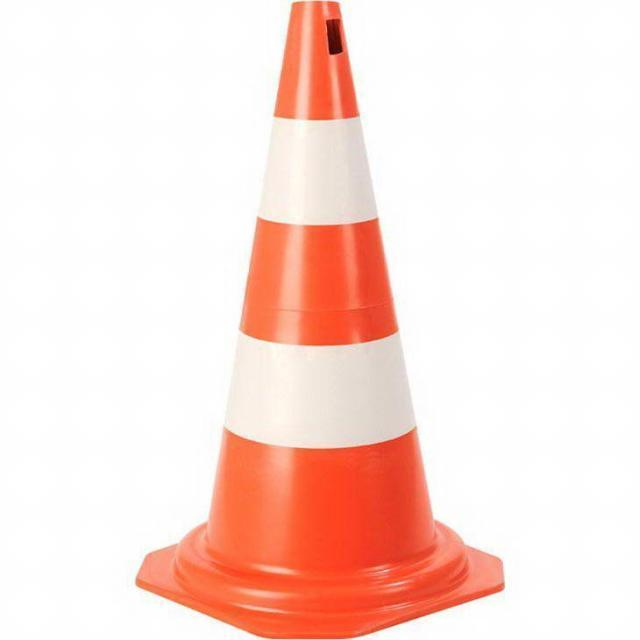traffic cone: (132, 1, 508, 640)
